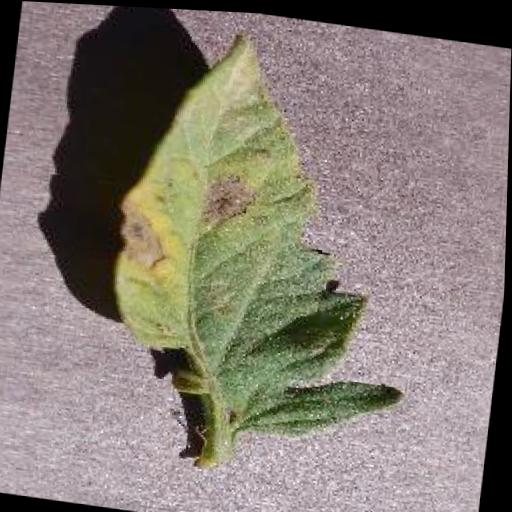Early Blight: (99, 11, 441, 451)
